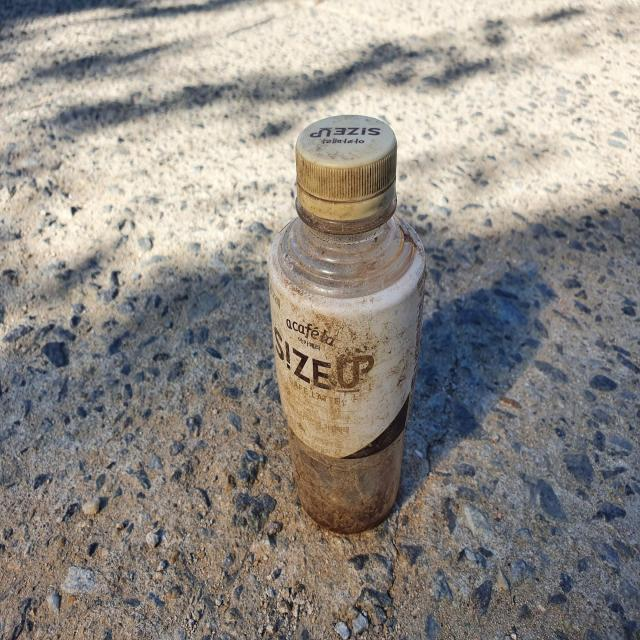plastic: (268, 114, 426, 534)
